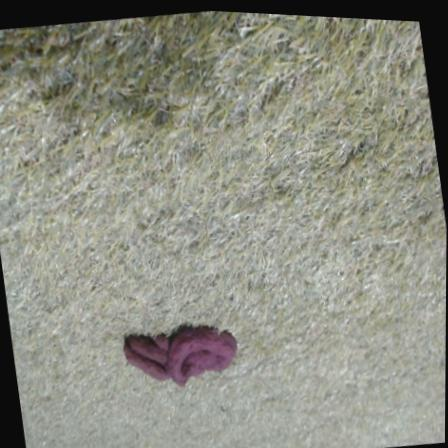dog-poop: (111, 310, 251, 402)
